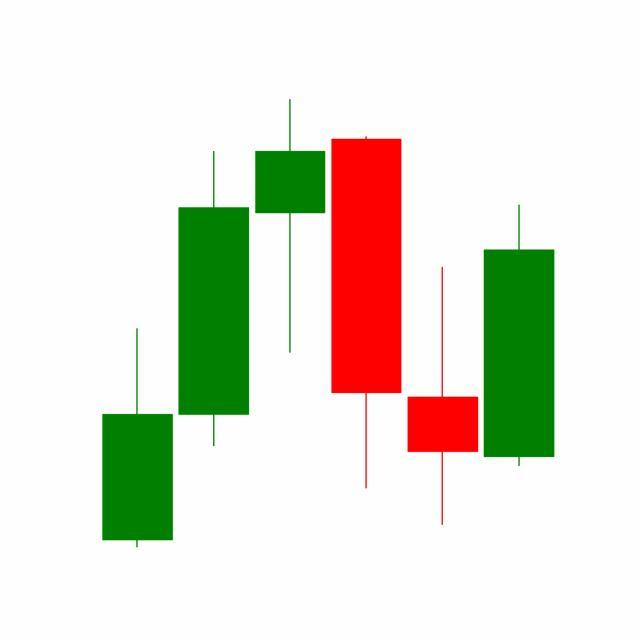Morning Star: (326, 132, 555, 530)
